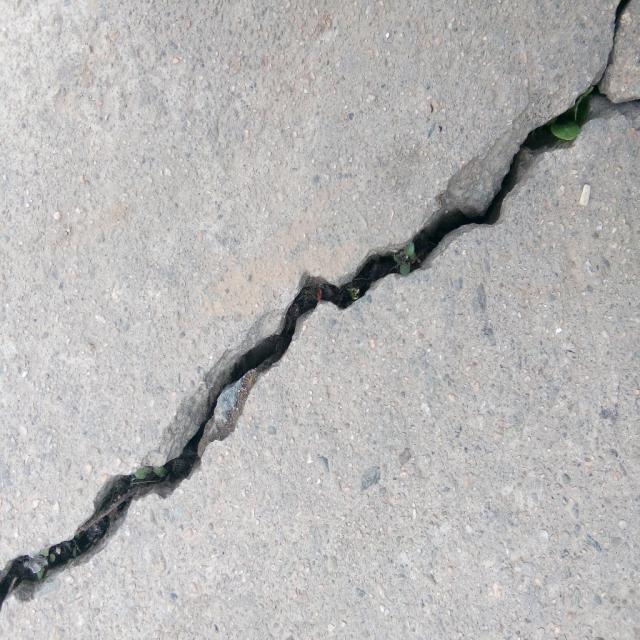cracks: (9, 13, 632, 632)
